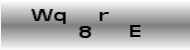8: (78, 25, 92, 39)
E: (129, 24, 142, 39)
W: (30, 7, 53, 22)
q: (53, 10, 67, 25)
r: (97, 10, 110, 22)
